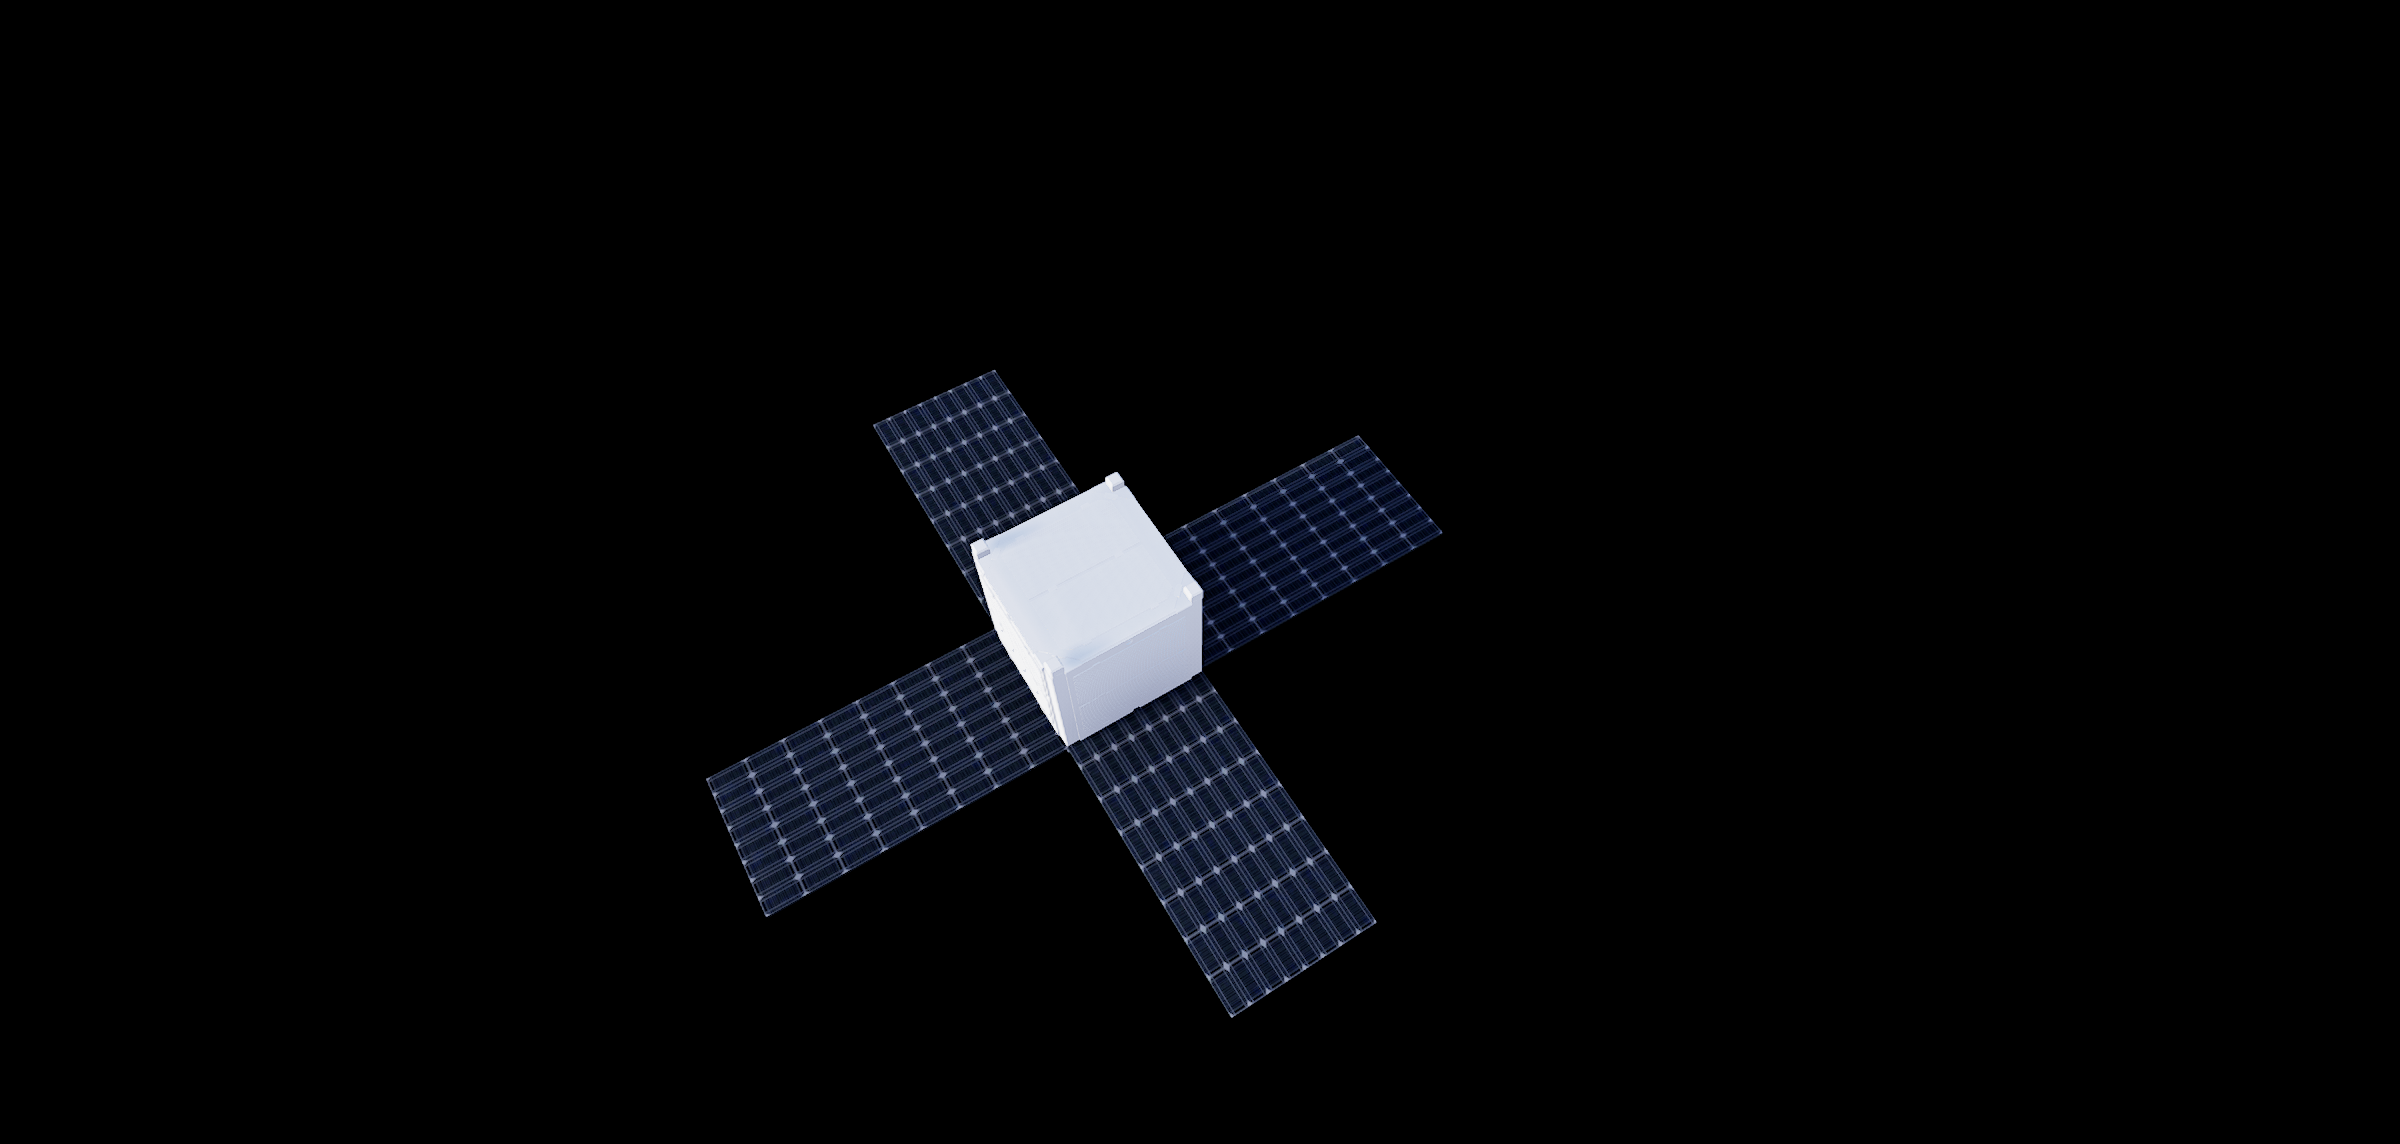satellite: (612, 374, 1541, 1035)
